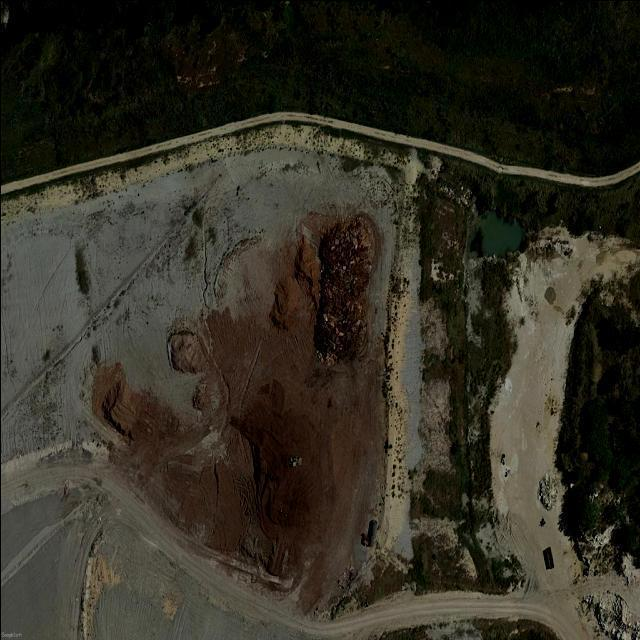dump_site: (312, 206, 375, 373)
